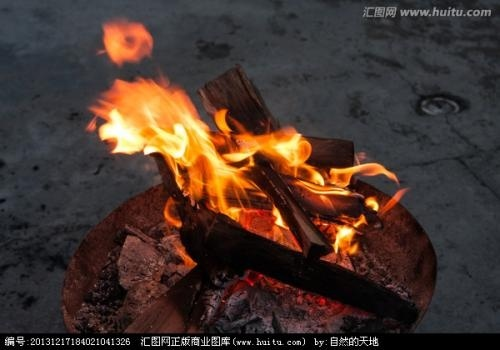fire: (92, 66, 335, 247)
